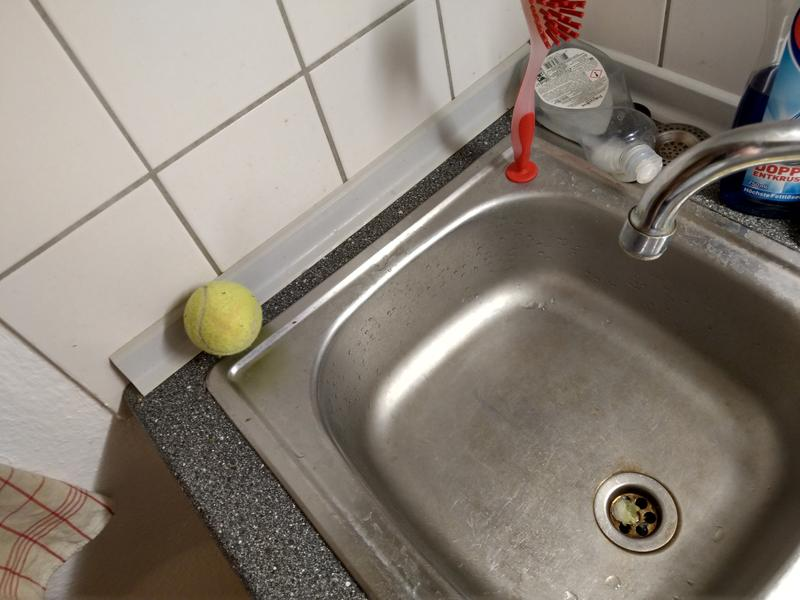Tennisball: (180, 277, 265, 357)
